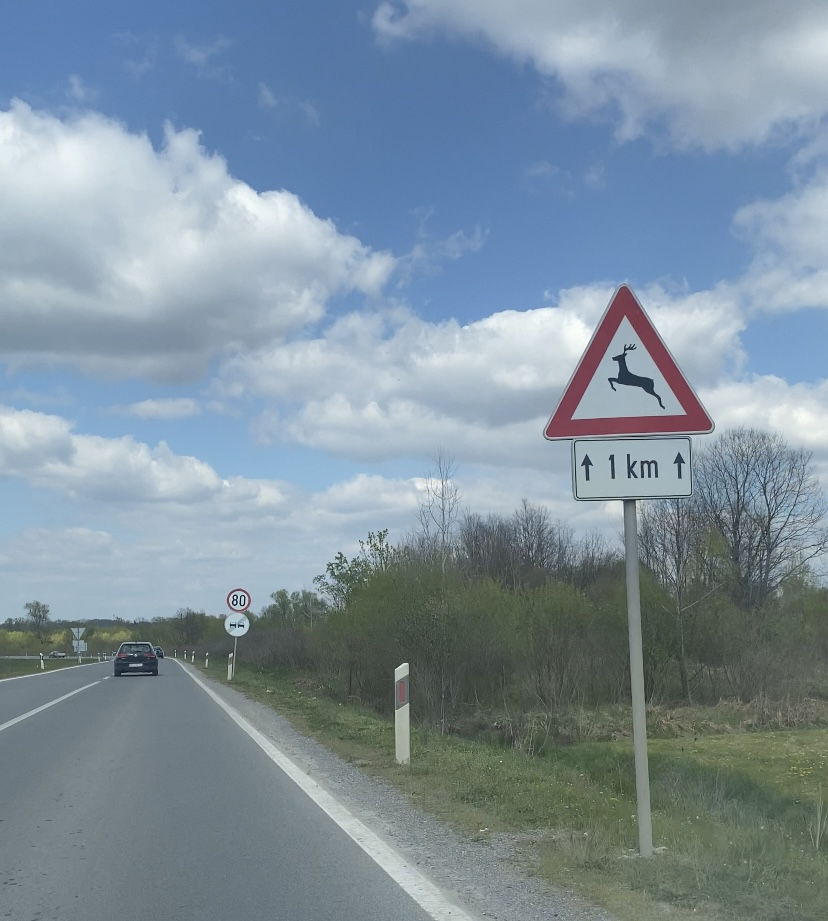Divljač na cesti: (543, 284, 715, 439)
